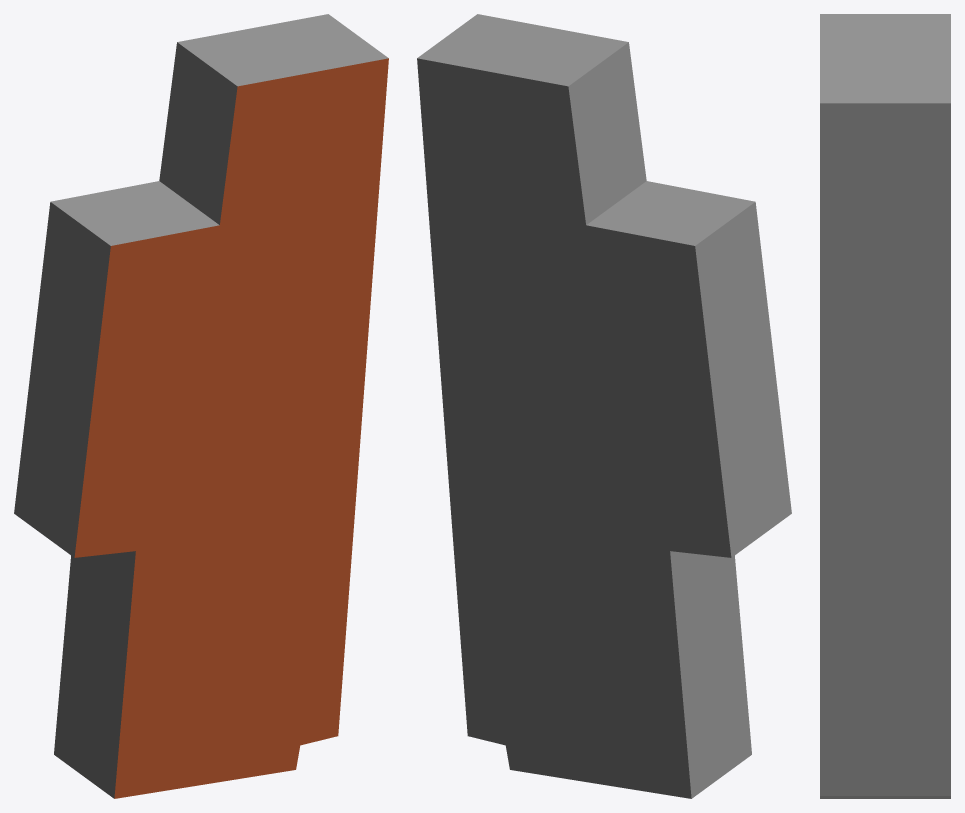
File: construction_2057_assumed_A_Casa_h6m.obj
3 renders of one model, left to right at view 1: azimuth 30°, elevation 25°; view 2: azimuth 150°, elevation 25°; view 3: azimuth 270°, elevation 25°, orthographic. The views are drawn at different scales.
Parts seen in each view (by area): view 1: construction_2057_assumed_A_Casa; view 2: construction_2057_assumed_A_Casa; view 3: construction_2057_assumed_A_Casa.
Boxes of the visible parts, x1,y1,x2,y2 form: construction_2057_assumed_A_Casa: (14, 14, 388, 798); construction_2057_assumed_A_Casa: (417, 14, 791, 798); construction_2057_assumed_A_Casa: (820, 14, 950, 798).
Size of the model in its own units: 17.99 by 38.15 by 6.
